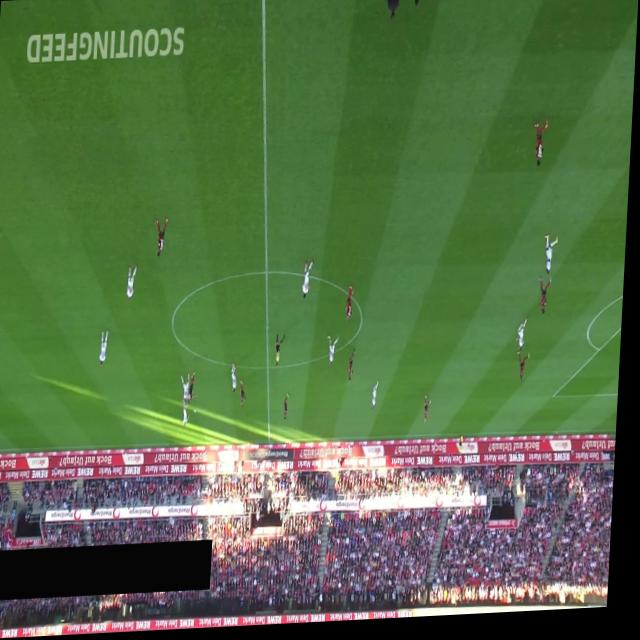player: (533, 124, 549, 173), (544, 239, 561, 281), (156, 218, 170, 258), (540, 281, 554, 320), (304, 262, 316, 302), (329, 337, 343, 369), (518, 323, 530, 359), (520, 355, 533, 387), (183, 374, 195, 406), (129, 265, 139, 303), (347, 289, 357, 325), (102, 330, 111, 367), (373, 384, 383, 414), (426, 399, 436, 427), (191, 373, 200, 404), (351, 353, 359, 384), (233, 365, 241, 395), (241, 383, 249, 409), (186, 405, 194, 428), (287, 394, 292, 423), (408, 0, 421, 10)
referee: (277, 336, 288, 369), (461, 440, 467, 459)
